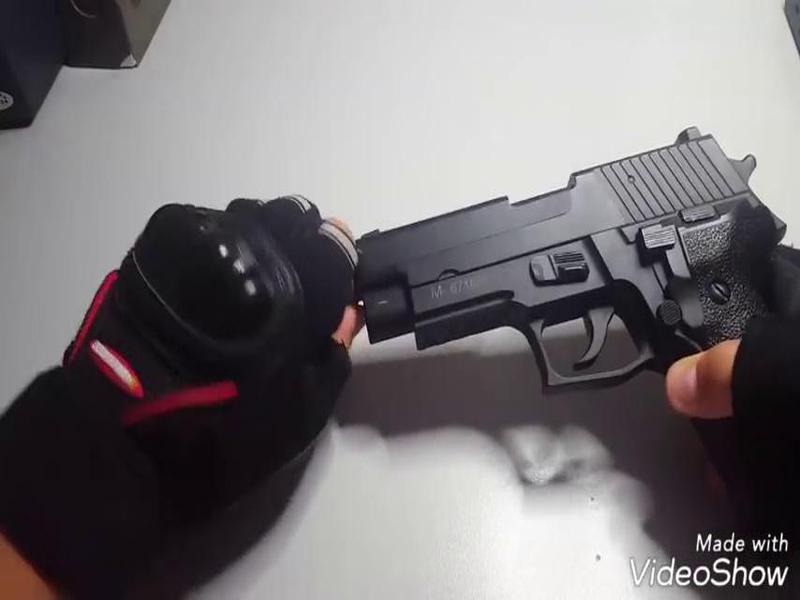Pistola: (351, 117, 800, 417)
